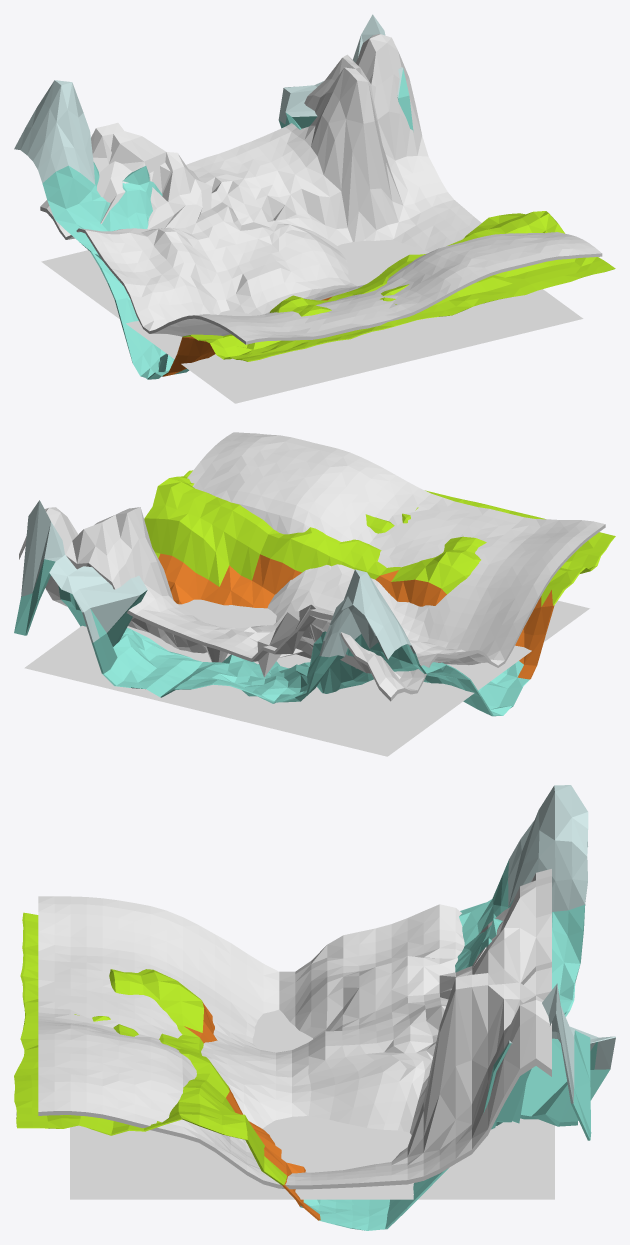
The model's file is ProjectGround.fbx.
3 renders of one model, top to bottom at view 1: azimuth 30°, elevation 25°; view 2: azimuth 150°, elevation 25°; view 3: azimuth 270°, elevation 25°, orthographic. The views are drawn at different scales.
Visible parts, largest first — view 1: Cube, 평면, 평면.001; view 2: Cube, 평면, 평면.001; view 3: Cube, 평면, 평면.001.
Part boxes in pixels (x1=…): Cube: x1=40, y1=34, x2=602, y2=344; 평면: x1=14, y1=14, x2=615, y2=379; 평면.001: x1=41, y1=239, x2=583, y2=403; Cube: x1=19, y1=432, x2=605, y2=701; 평면: x1=14, y1=470, x2=615, y2=716; 평면.001: x1=24, y1=599, x2=589, y2=756; Cube: x1=38, y1=869, x2=551, y2=1189; 평면: x1=14, y1=785, x2=615, y2=1230; 평면.001: x1=70, y1=1009, x2=554, y2=1199.
Size of the model in its own units: 24479 by 13537 by 27154.
